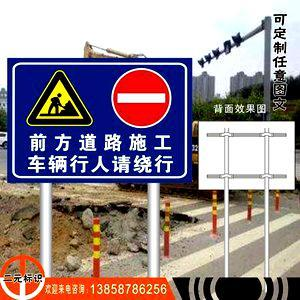sign: (11, 62, 186, 180)
